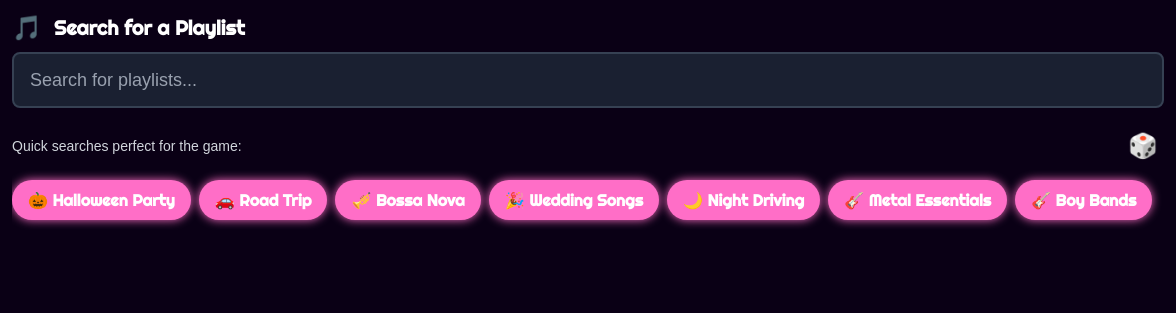
Test: PlaylistSearch › shows "no playlists found" when no results
Step 1. Type "nonexistent" into the field with placeholder "Search for playlists..." → (588, 80), box x1=12 y1=52 x2=1164 y2=108
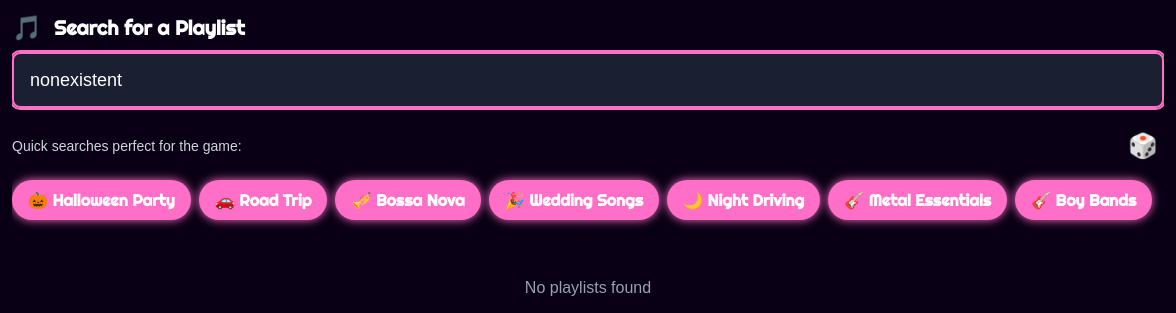
Expected: the text "No playlists found" is shown, x1=525 y1=279 x2=651 y2=296
